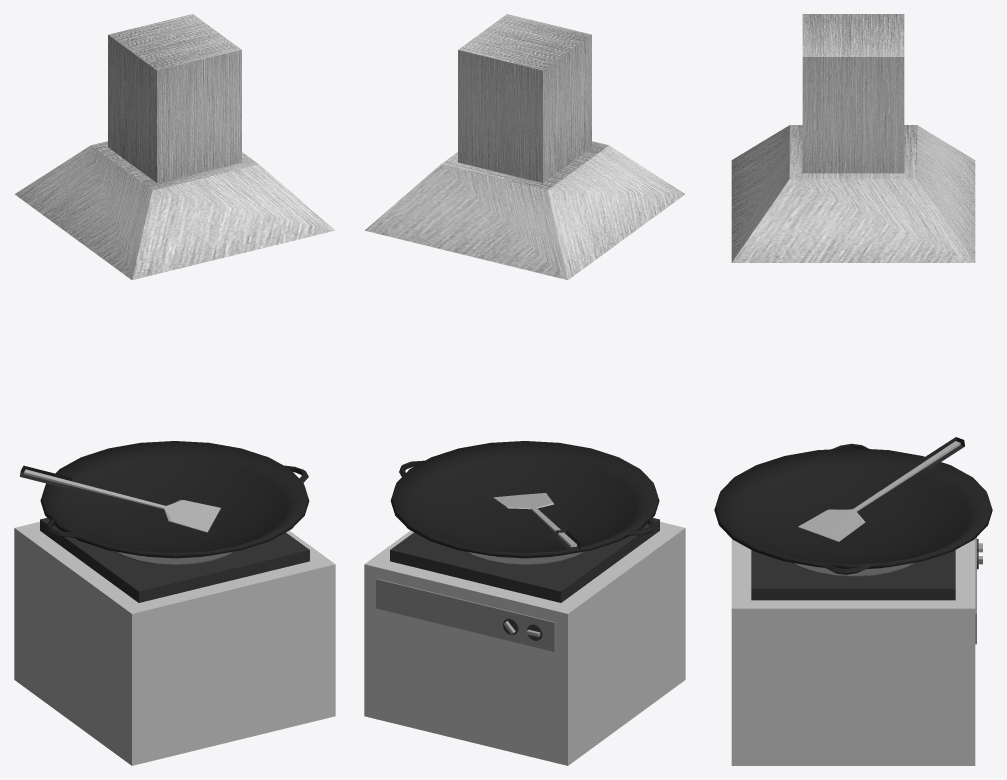
Rendered from pan.fbx.
3 renders of one model, left to right at view 1: azimuth 30°, elevation 25°; view 2: azimuth 150°, elevation 25°; view 3: azimuth 270°, elevation 25°, orthographic. The views are drawn at different scales.
Visible parts, largest first — view 1: Base, Cube, Pan, Spatula; view 2: Base, Cube, Pan, Spatula; view 3: Base, Cube, Pan, Spatula.
Part boxes in pixels (x1,y1,x2,y2): Base: (14,518,335,765); Cube: (14,14,334,279); Pan: (40,441,309,558); Spatula: (20,465,220,532); Base: (364,518,685,765); Cube: (365,14,685,279); Pan: (390,441,659,558); Spatula: (493,493,580,550); Base: (731,537,982,765); Cube: (731,14,975,262); Pan: (714,443,992,574); Spatula: (798,437,964,541).
Size of the model in its own units: 250 by 616 by 229.
